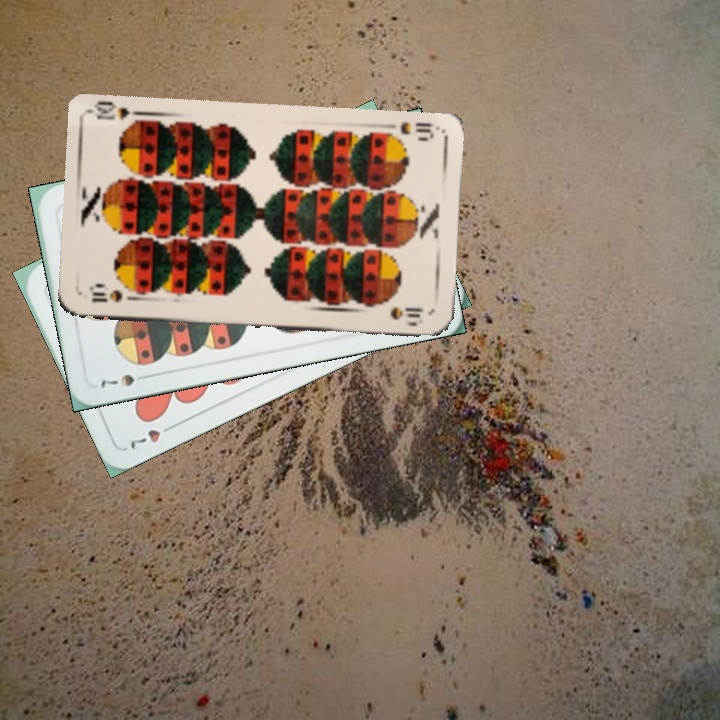H7: (123, 420, 179, 453)
S10: (85, 285, 140, 305), (396, 118, 436, 144)
S7: (94, 370, 152, 392)
